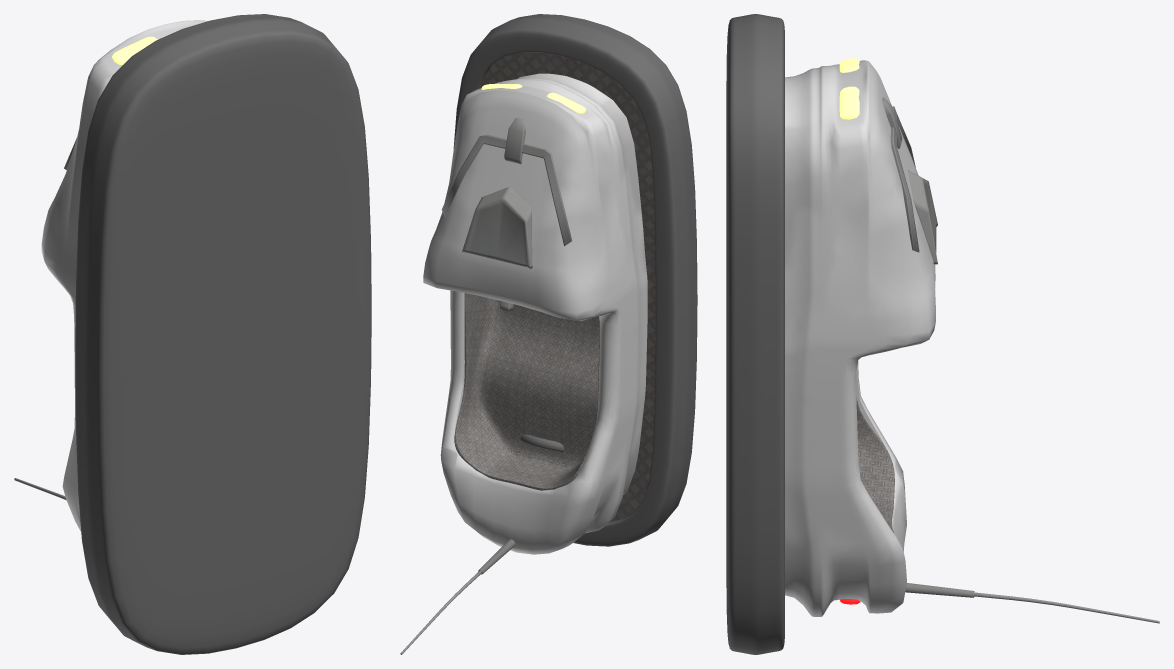
Rendered from bumper.dae.
3 views of the same model, side by side, from view 1: azimuth 30°, elevation 25°; view 2: azimuth 150°, elevation 25°; view 3: azimuth 270°, elevation 25° (orthographic). The views are drawn at different scales.
Parts seen in each view (by area): view 1: Bumper, Cart, Head Lights; view 2: Cart, Bumper, Seat, Plane, Front Decal, Front Decal.002, Front Decal.001, ElectricPole, Head Lights; view 3: Cart, Bumper, Seat, ElectricPole, Front Decal, Front Decal.002, Head Lights.
Part boxes in pixels (x1=…): Bumper: x1=75, y1=14, x2=371, y2=654; Cart: x1=41, y1=20, x2=207, y2=532; Head Lights: x1=112, y1=36, x2=157, y2=64; Cart: x1=423, y1=73, x2=647, y2=554; Bumper: x1=453, y1=14, x2=697, y2=546; Seat: x1=454, y1=293, x2=599, y2=490; Plane: x1=481, y1=52, x2=655, y2=522; Front Decal: x1=462, y1=186, x2=532, y2=268; Front Decal.002: x1=441, y1=134, x2=571, y2=246; Front Decal.001: x1=504, y1=117, x2=525, y2=163; ElectricPole: x1=400, y1=539, x2=515, y2=654; Head Lights: x1=481, y1=83, x2=586, y2=113; Cart: x1=785, y1=60, x2=935, y2=616; Bumper: x1=726, y1=14, x2=784, y2=654; Seat: x1=856, y1=397, x2=894, y2=532; ElectricPole: x1=905, y1=583, x2=1159, y2=623; Front Decal: x1=908, y1=170, x2=937, y2=264; Front Decal.002: x1=890, y1=106, x2=919, y2=252; Head Lights: x1=839, y1=58, x2=859, y2=119.
Bounding box in the file's own units: 3.37 × 4.75 × 7.24.
